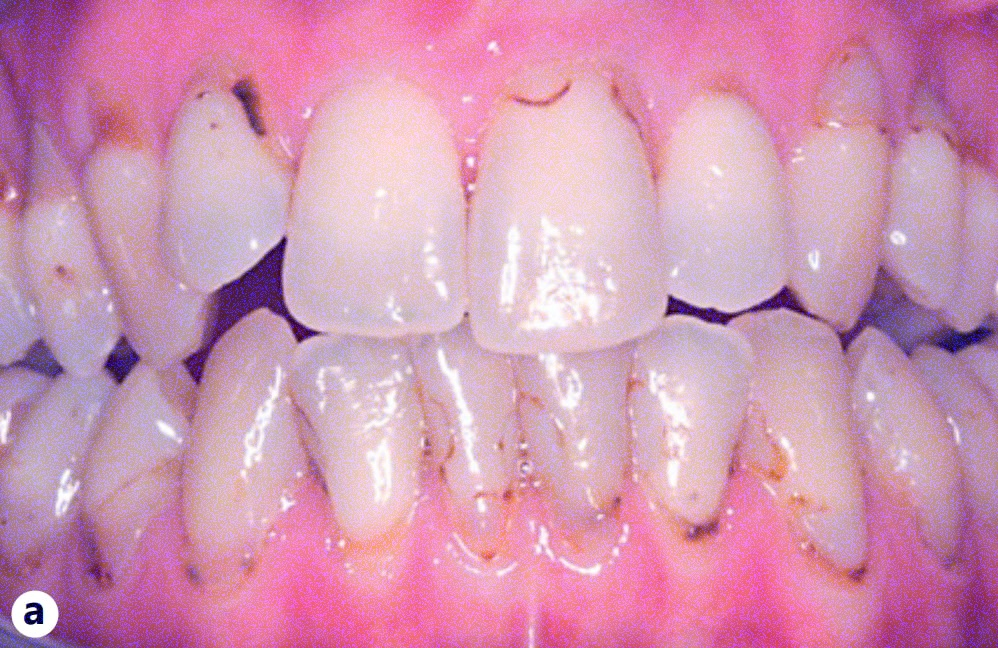karies: (520, 396, 632, 563), (424, 403, 511, 573), (729, 399, 821, 498), (810, 38, 895, 139), (77, 76, 164, 164), (274, 384, 337, 503), (895, 74, 969, 153), (181, 548, 265, 596), (1, 524, 61, 587), (226, 69, 275, 142), (603, 74, 652, 138), (506, 74, 576, 114), (80, 554, 127, 595), (678, 509, 725, 546), (839, 554, 874, 587), (45, 257, 80, 289)
